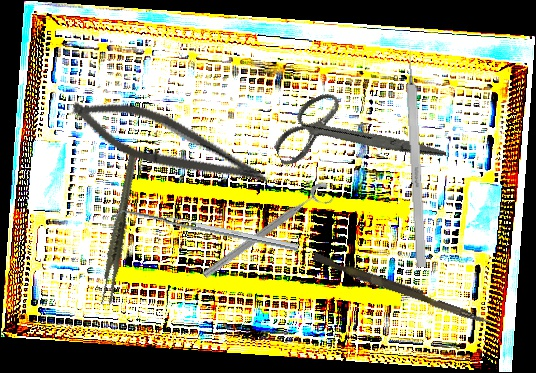Fixation Ring: (199, 179, 338, 289)
Hook Surgical: (404, 41, 427, 268)
Iris Scissors: (262, 58, 448, 219)
Micro Scissor: (63, 86, 279, 198)
Pusher: (311, 252, 495, 327)
Spatula Surgical: (111, 205, 299, 258)
Tissue Forceps: (74, 150, 166, 308)
